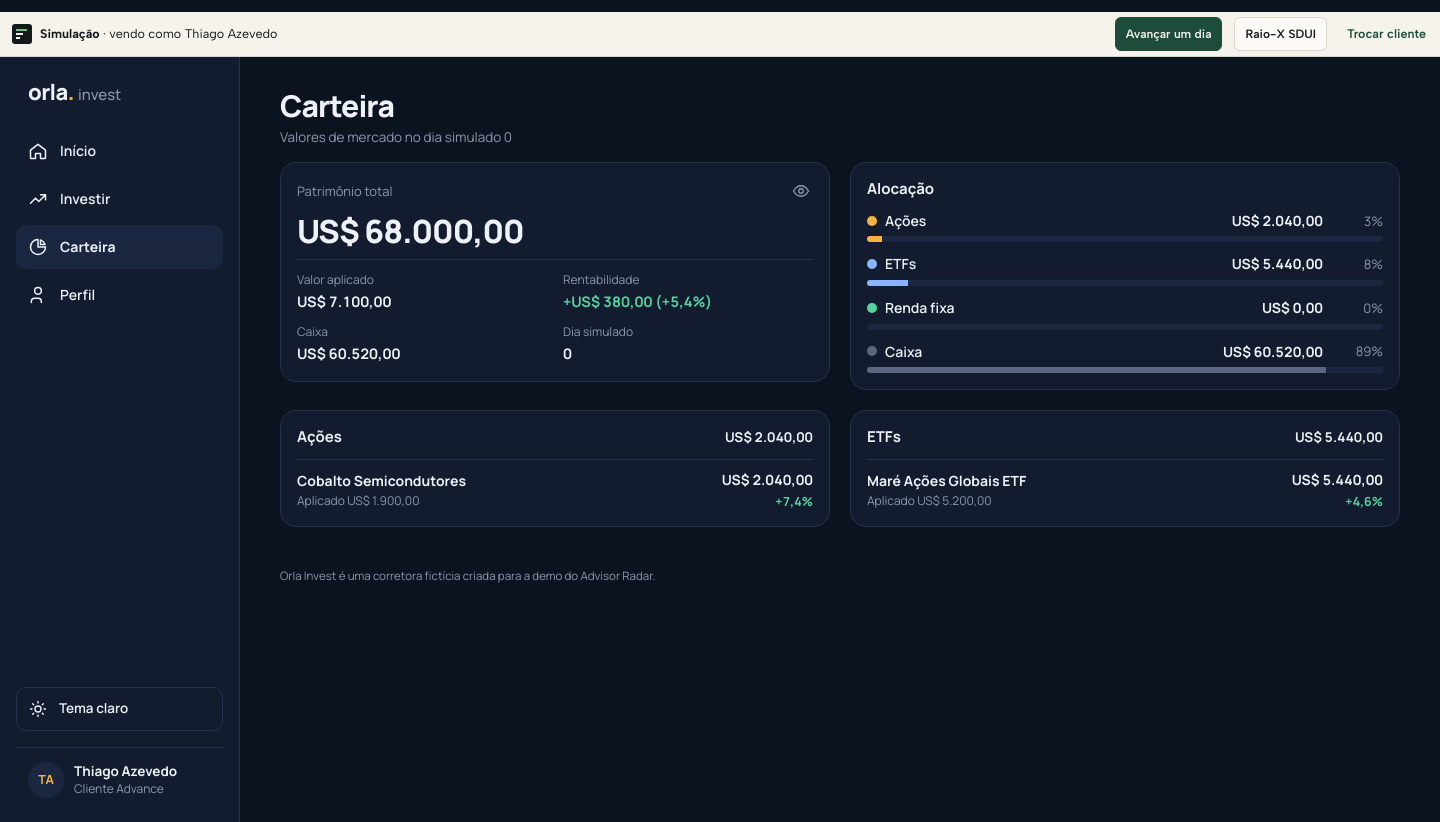
Test: Carteira on desktop (Carteira-Desktop) › outlines each section in the desktop grid with Raio-X, omitted ones as placeholders with their span
The width and height of the screenshot is (1440, 822).
Click the button "Raio-X SDUI" at (1281, 34), box left=1232, top=12, right=1329, bottom=56
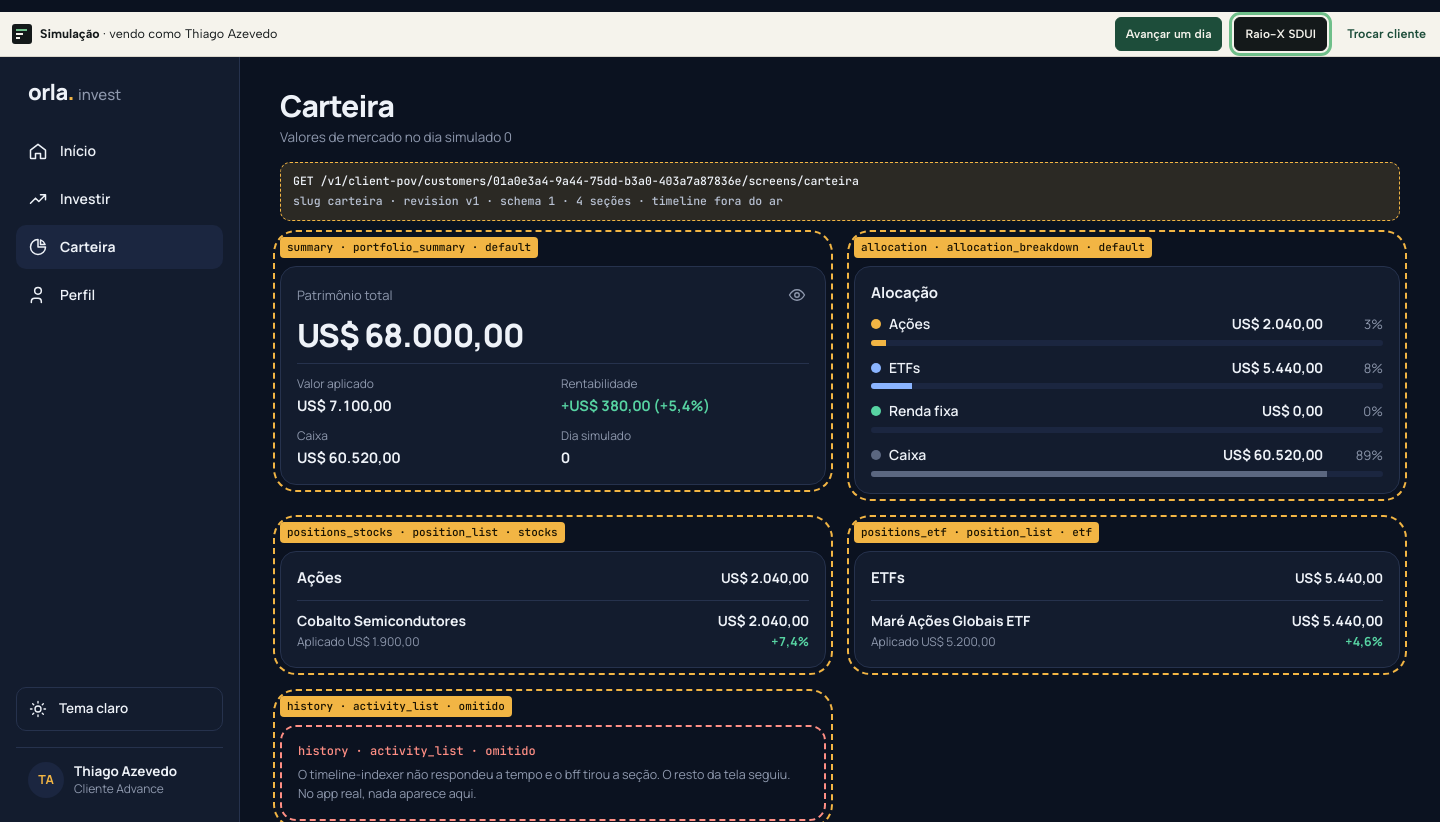
Expected: the element with class "sdui-section" shows "history · activity_list · omitido", left=287, top=699, right=505, bottom=713
